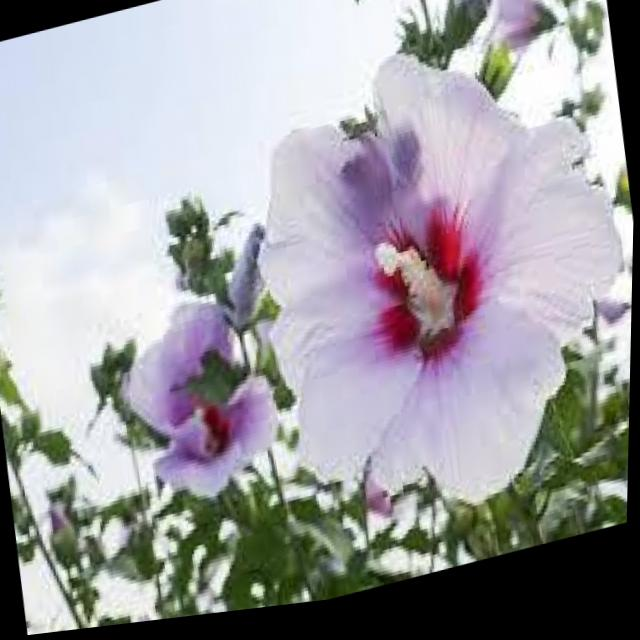Flower: (219, 24, 639, 565), (90, 217, 321, 530)
